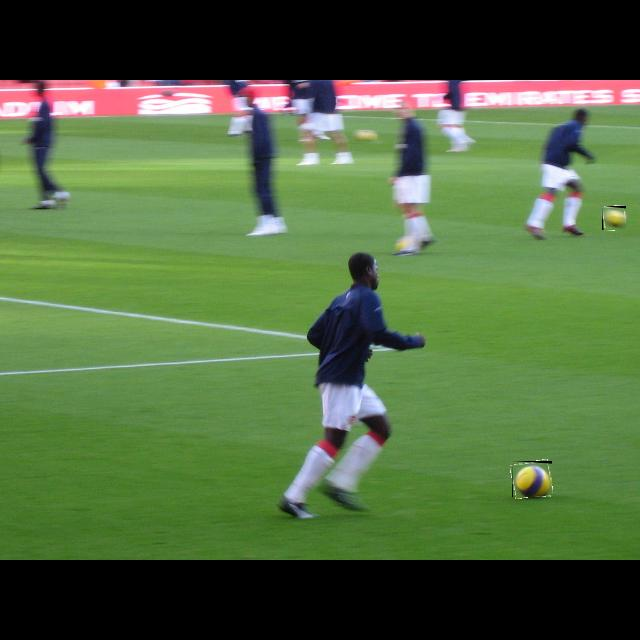Football: (512, 461, 552, 497), (602, 206, 626, 230)
